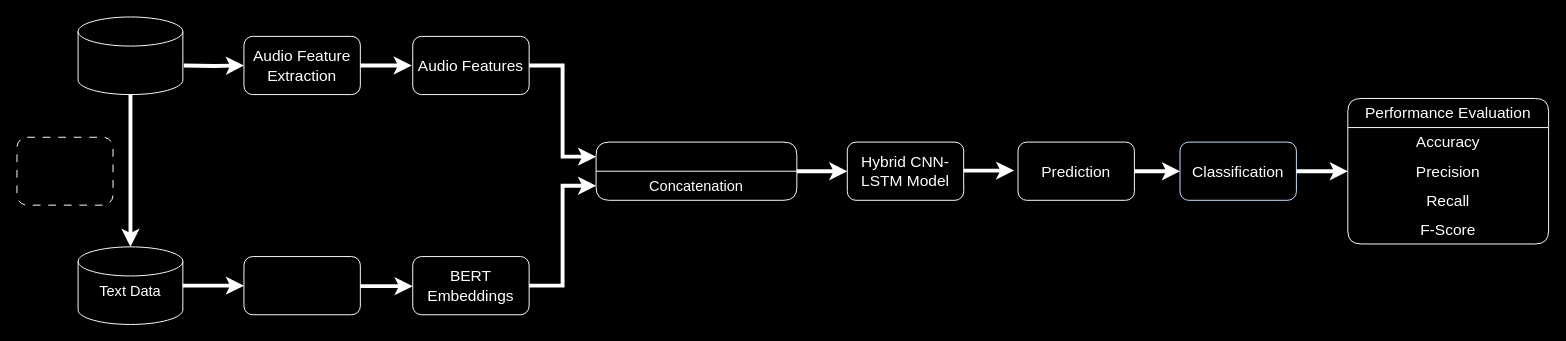
Some shapes in this 1566 by 341 pixel diagram are drawn without their labels. The shapes that lost their labels are listed below. From the top down, each one's box as (x1, y1, x2, y2) in pixels, then its label:
(77, 16, 183, 95): Audio Data
(16, 136, 113, 205): Transcription of audio files
(595, 141, 797, 200): Feature Level Fusion
(243, 256, 360, 315): Text Feature Extraction
